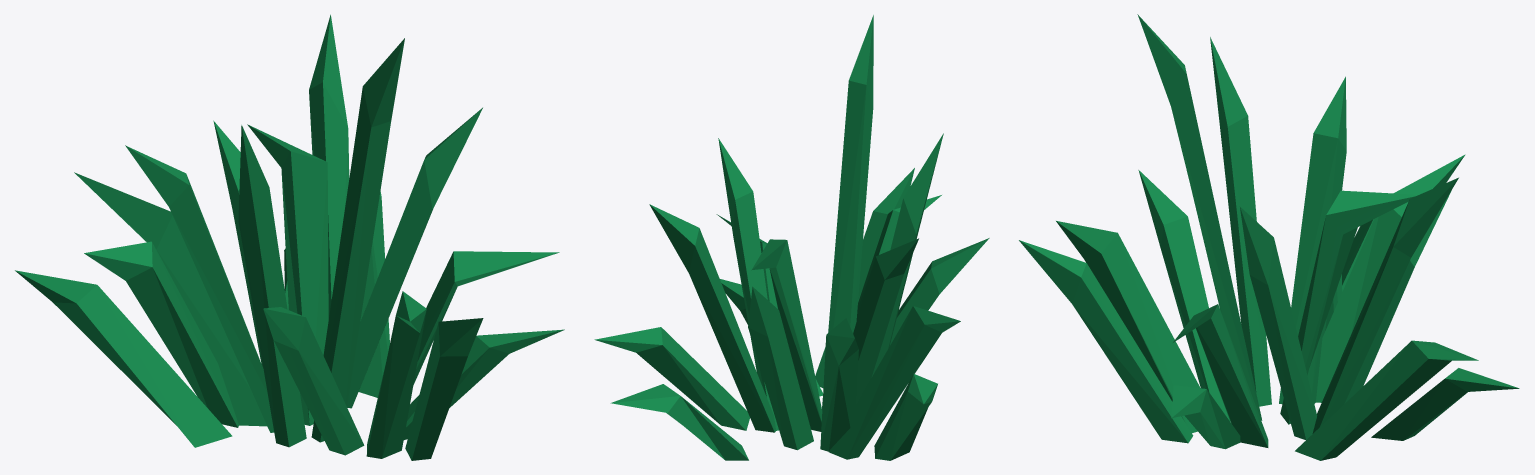
File: grass2.fbx
3 renders of one model, left to right at view 1: azimuth 30°, elevation 25°; view 2: azimuth 150°, elevation 25°; view 3: azimuth 270°, elevation 25°, orthographic. The views are drawn at different scales.
Visible parts, largest first — view 1: SM_Gerneric_Grass_Patch_02; view 2: SM_Gerneric_Grass_Patch_02; view 3: SM_Gerneric_Grass_Patch_02.
Part boxes in pixels (x1,y1,x2,y2): SM_Gerneric_Grass_Patch_02: [15, 14, 564, 460]; SM_Gerneric_Grass_Patch_02: [594, 15, 989, 460]; SM_Gerneric_Grass_Patch_02: [1019, 14, 1519, 460].
Size of the model in its own units: 111 by 116 by 129.
